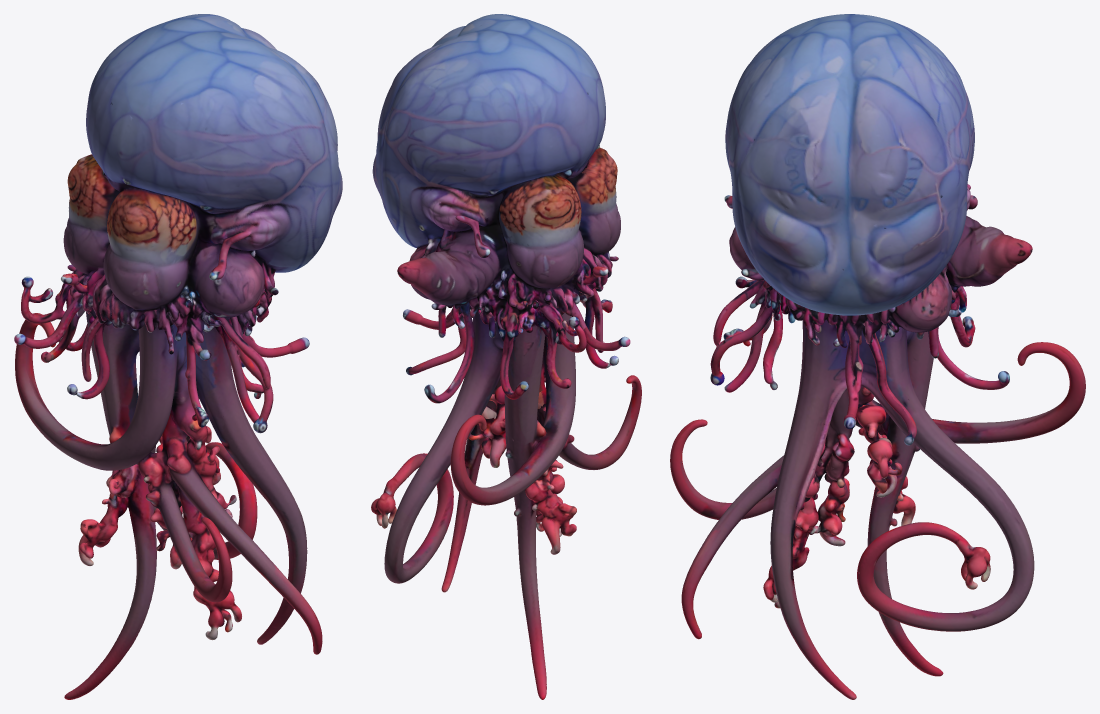
The model's file is tripo_convert_5d217204-5319-4372-a7fa-ee9583aa75b3.fbx.
3 views of the same model, side by side, from view 1: azimuth 30°, elevation 25°; view 2: azimuth 150°, elevation 25°; view 3: azimuth 270°, elevation 25° (orthographic). The views are drawn at different scales.
Parts seen in each view (by area): view 1: tripo_node_5d217204; view 2: tripo_node_5d217204; view 3: tripo_node_5d217204.
Boxes of the visible parts, x1,y1,x2,y2 form: tripo_node_5d217204: (14, 14, 342, 699); tripo_node_5d217204: (371, 14, 641, 699); tripo_node_5d217204: (670, 14, 1085, 699).
Bounding box in the file's own units: 42.29 × 100 × 54.57.
Materials: 1 (1 with a texture image).
